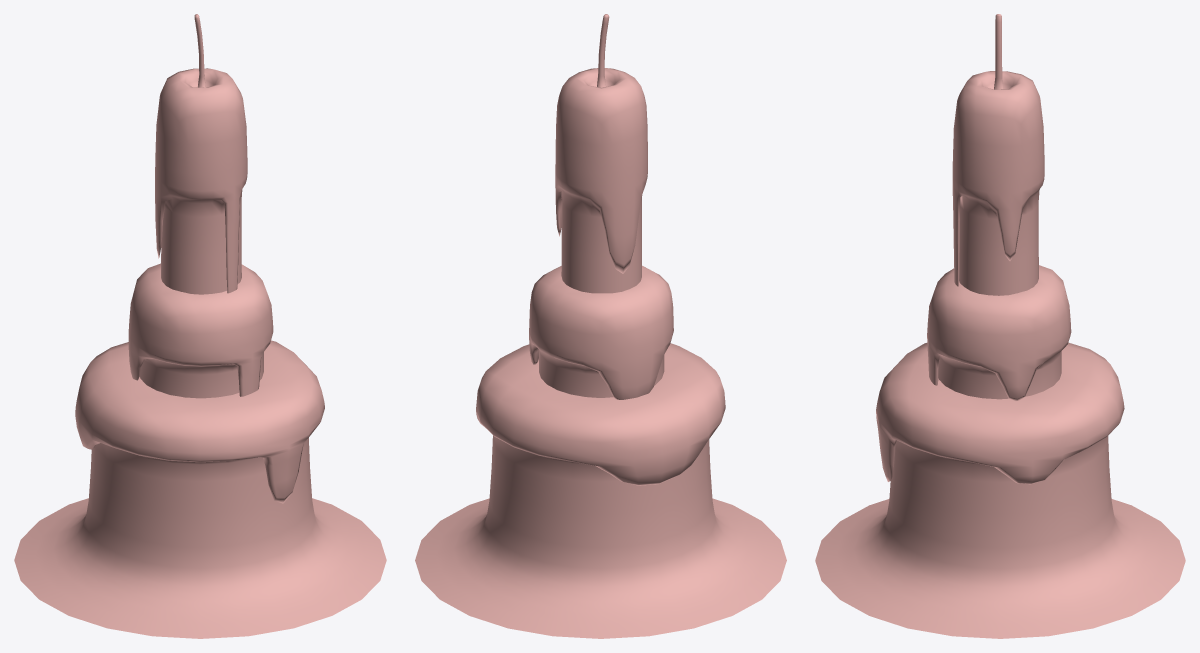
Rendered from Candles.fbx.
The picture shows the model from 3 angles, left to right: view 1: azimuth 30°, elevation 25°; view 2: azimuth 150°, elevation 25°; view 3: azimuth 270°, elevation 25°; orthographic projection.
Parts seen in each view (by area): view 1: Candle3, Candle2, Candle1; view 2: Candle3, Candle2, Candle1; view 3: Candle3, Candle2, Candle1.
Part boxes in pixels (box(x1,y1,x2,y2)): Candle3: box(14, 340, 386, 638); Candle2: box(155, 14, 247, 294); Candle1: box(128, 263, 273, 398); Candle3: box(415, 343, 786, 638); Candle2: box(555, 14, 647, 293); Candle1: box(529, 265, 673, 399); Candle3: box(815, 342, 1185, 638); Candle2: box(952, 14, 1044, 295); Candle1: box(927, 265, 1071, 400).
Bounding box in the file's own units: 0.2281 × 0.3701 × 0.2281.
